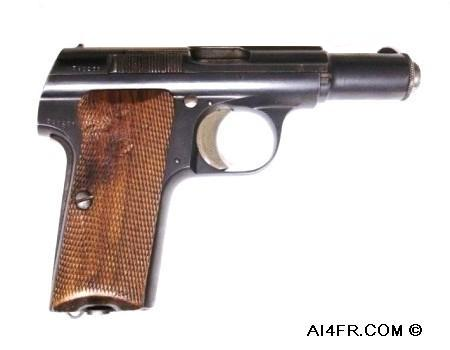gun: (29, 40, 429, 322)
